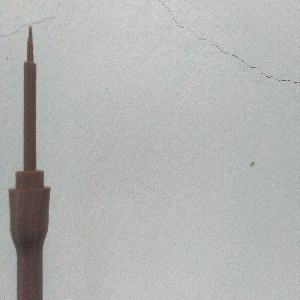solder: (7, 25, 53, 300)
